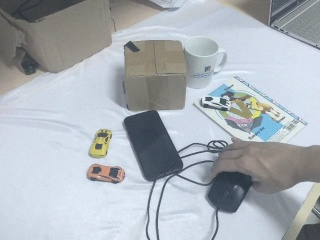book: (192, 69, 309, 147)
box: (1, 1, 115, 75), (122, 39, 188, 110)
cup: (183, 36, 228, 92)
mouse: (205, 169, 255, 214)
phone: (123, 110, 183, 182)
toy_car: (87, 163, 125, 184), (88, 128, 112, 158), (197, 95, 234, 112)
